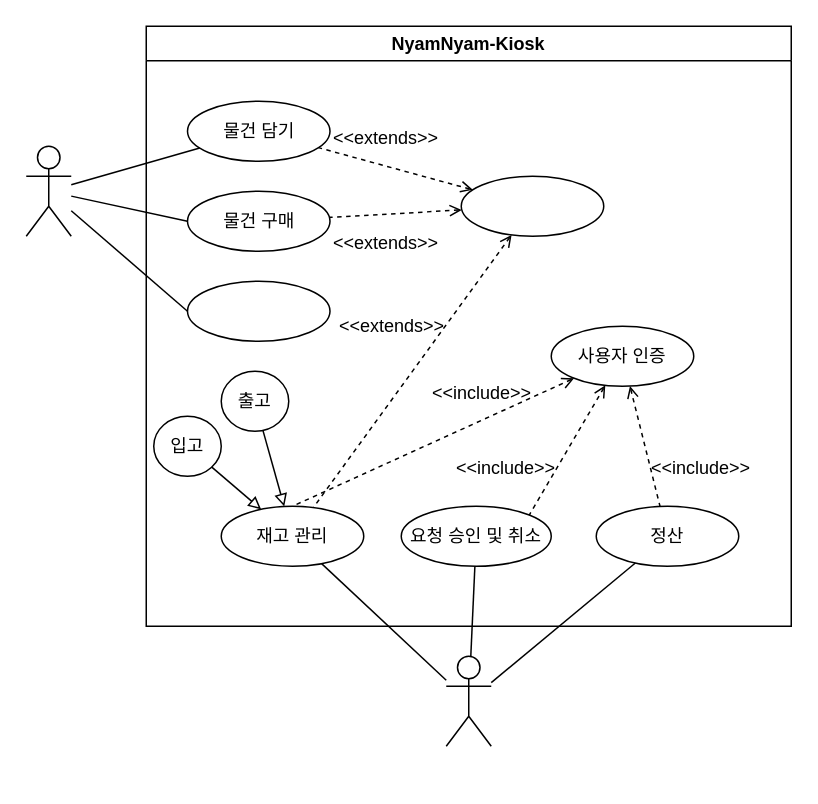
This 818x804 diagram has some shape labels left out. The box of each missing label's shape, as (x1, y1, x2, y2) in pixels:
결제: (186, 280, 330, 341)
손님: (25, 145, 71, 236)
재고 조회: (460, 175, 604, 236)
주인: (445, 655, 491, 746)
